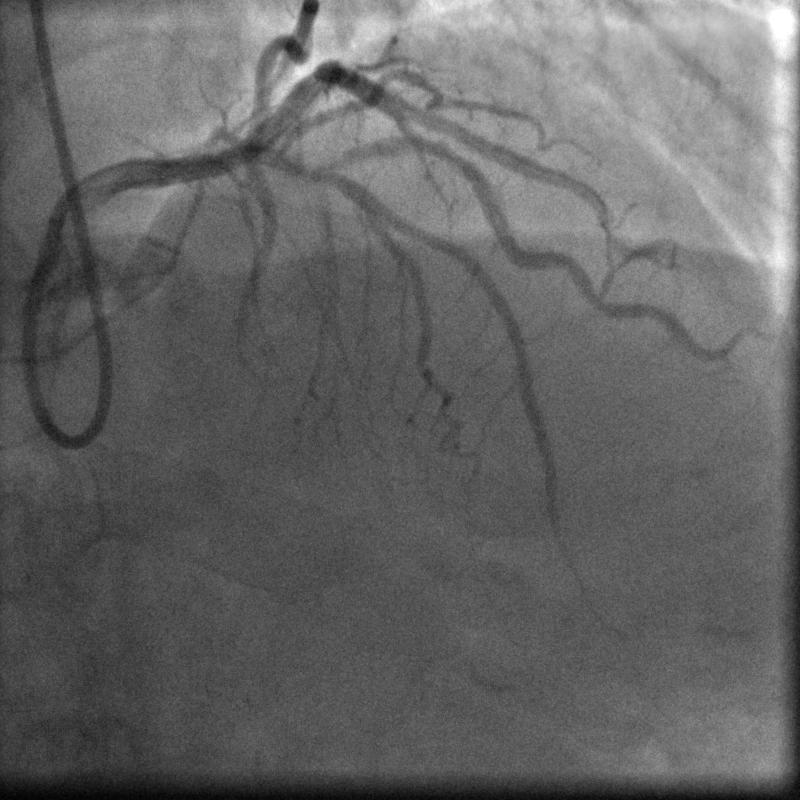Stenosis: (430, 135, 480, 179)
